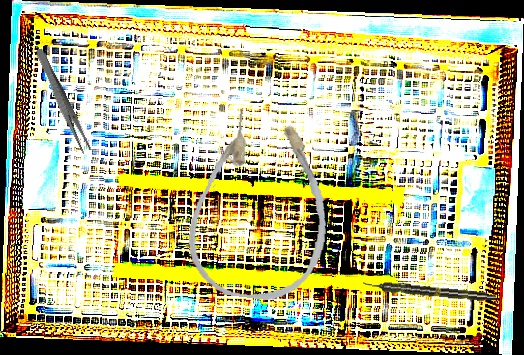Cannula: (182, 104, 340, 307)
Dressing Forceps: (32, 47, 93, 155)
Handpiece: (362, 278, 497, 304)
